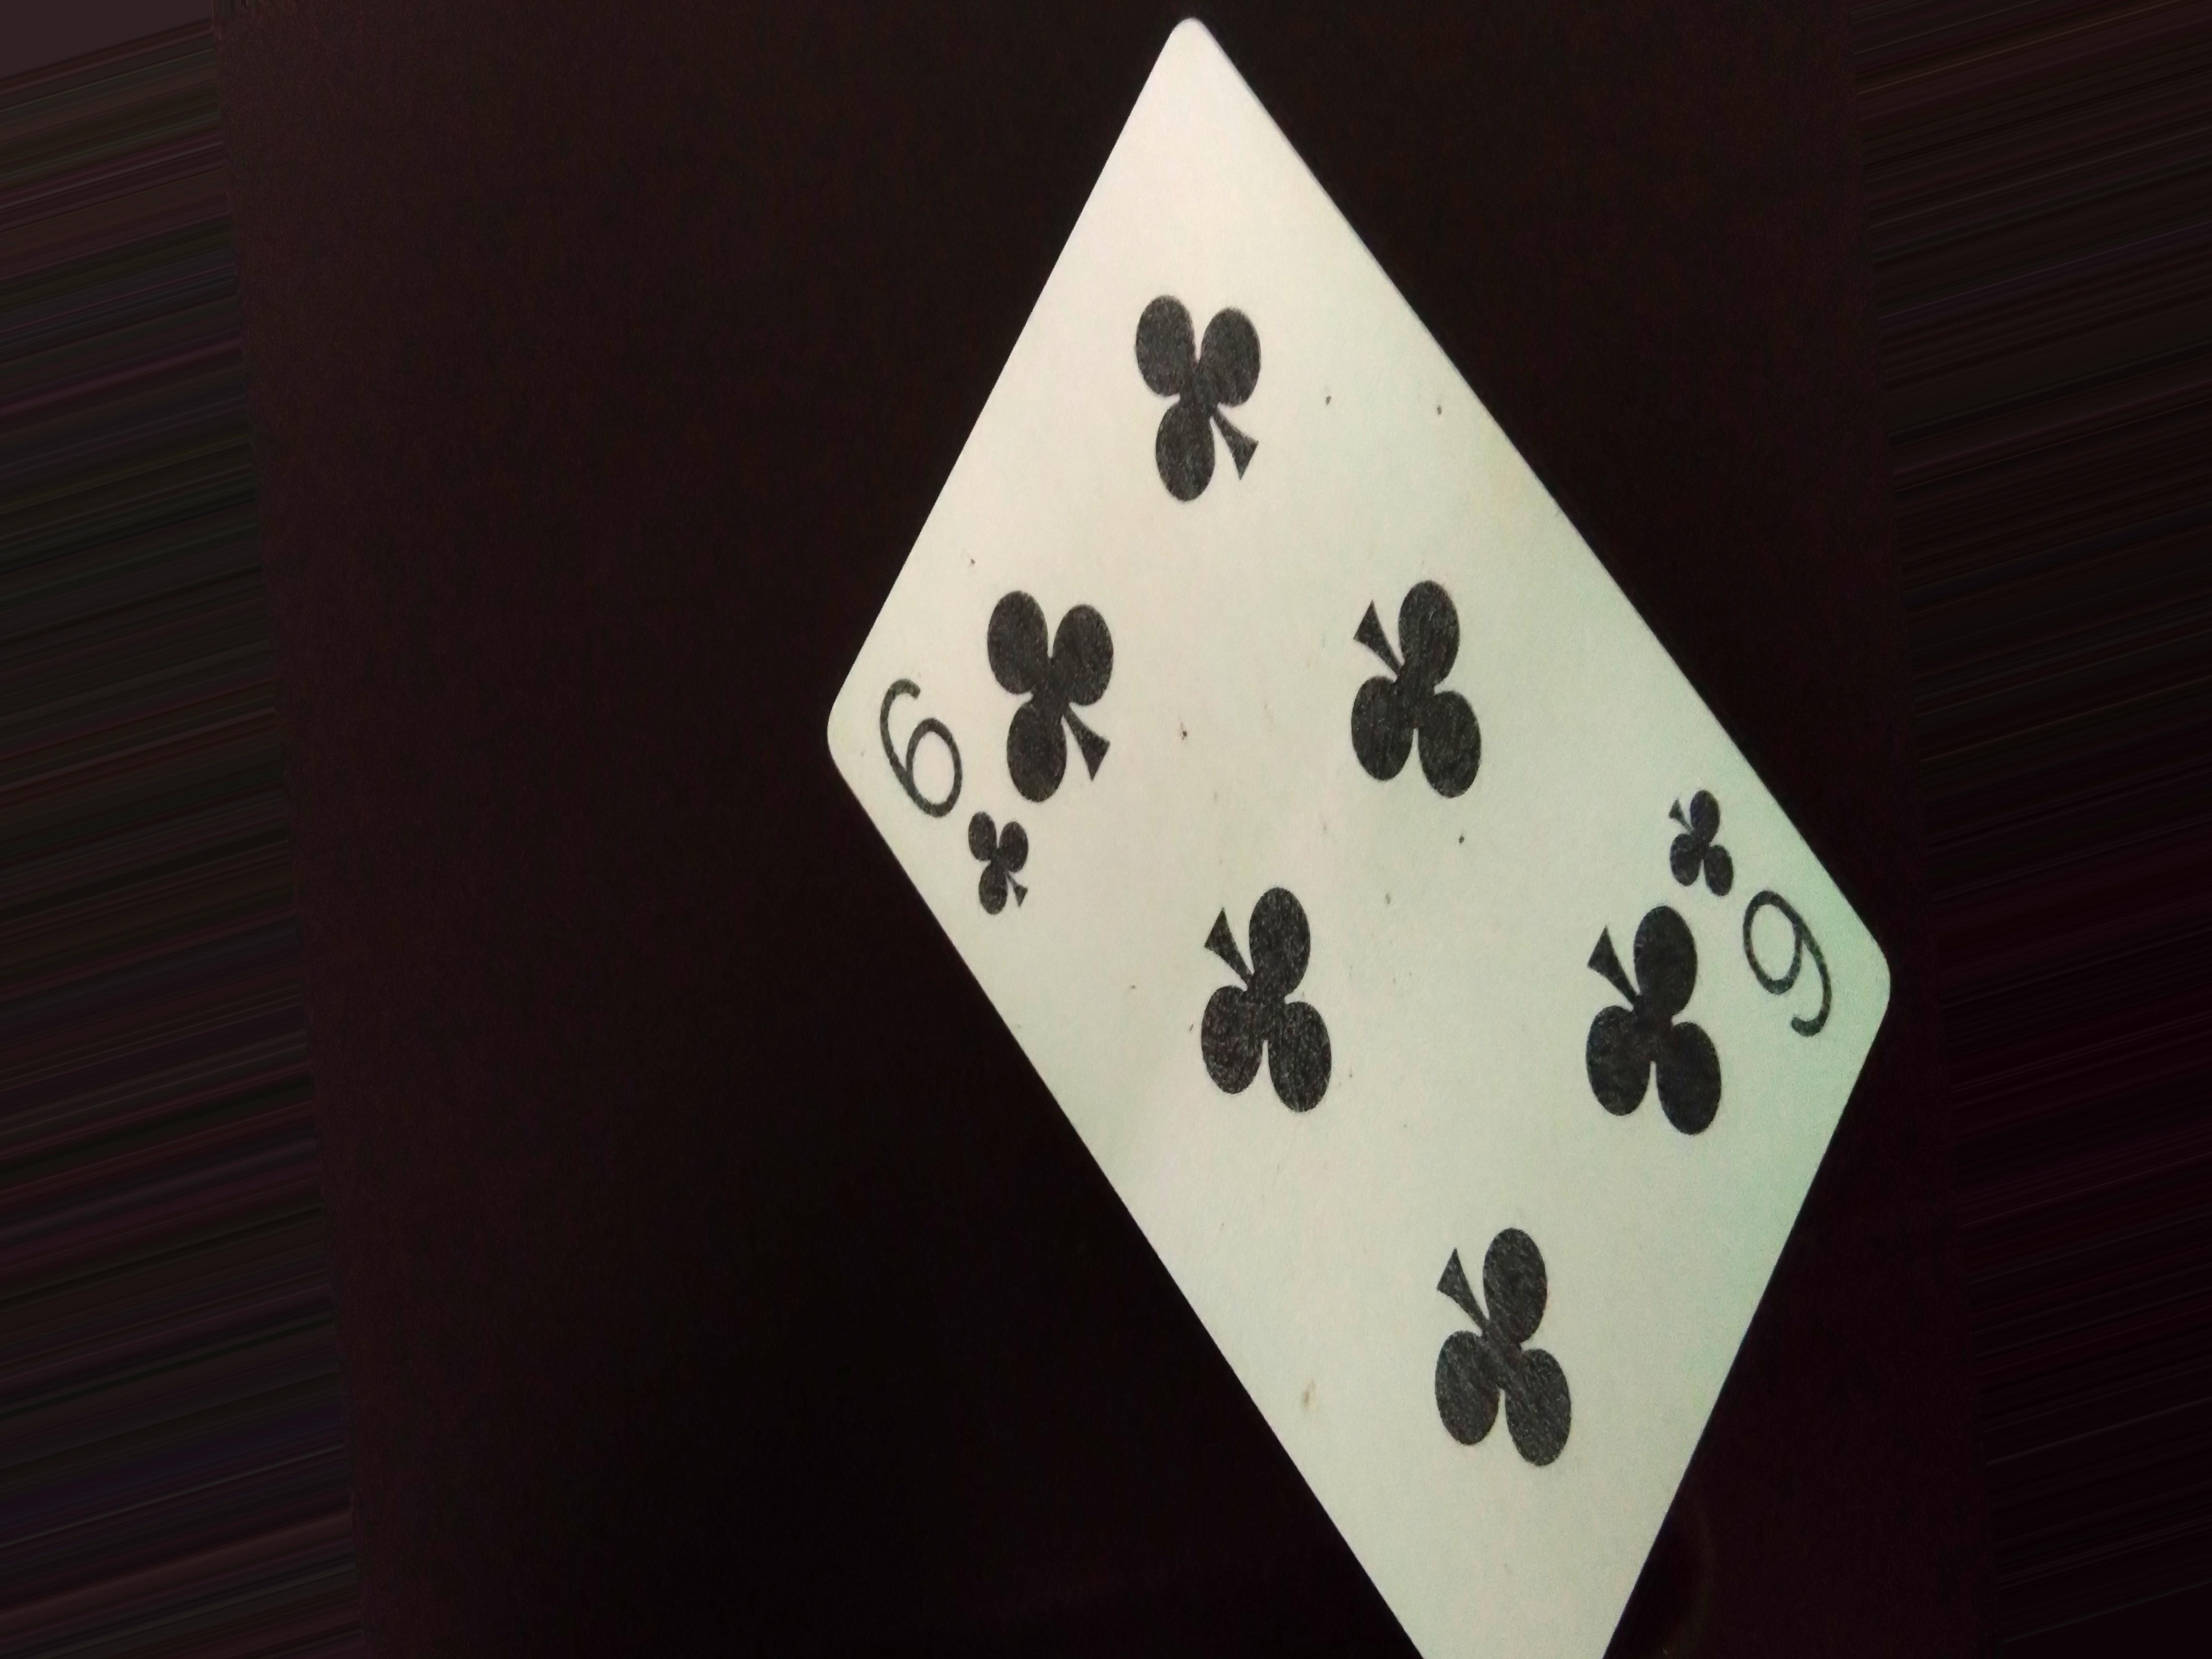6C: (1667, 772, 1864, 1040)
